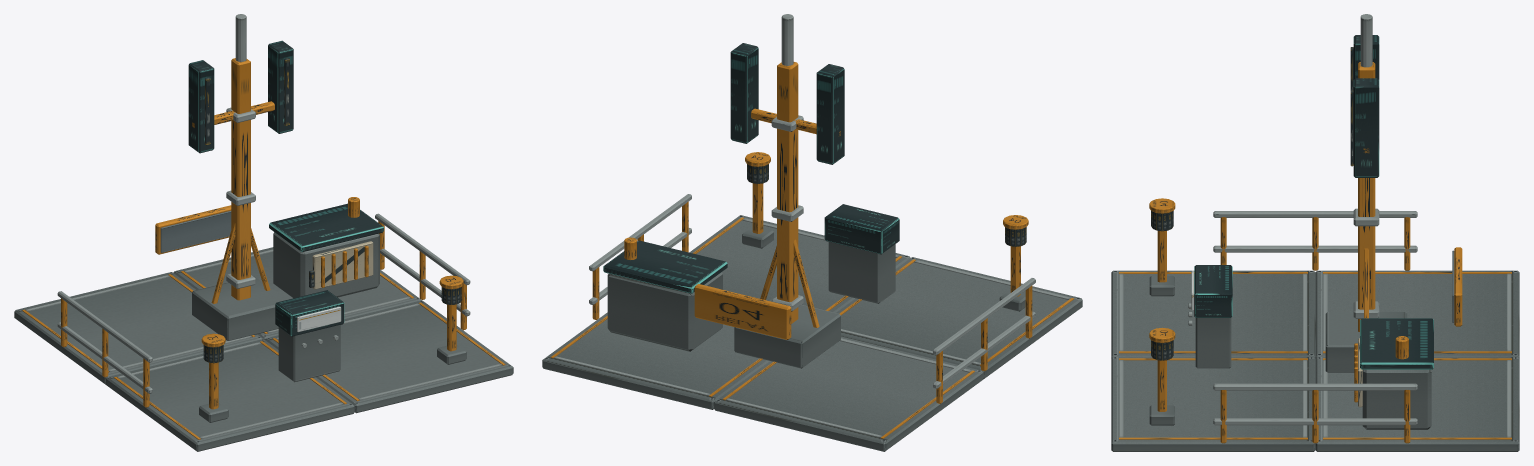
The model's file is RelayPlatform_LOD1.obj.
3 views of the same model, side by side, from view 1: azimuth 30°, elevation 25°; view 2: azimuth 150°, elevation 25°; view 3: azimuth 270°, elevation 25° (orthographic). The views are drawn at different scales.
Parts seen in each view (by area): view 1: 004_relay_mast.001, 000_floor_4m.017, 002_floor_4m.009, 001_floor_4m.009, 006_generator.001, 005_console.001, 003_floor_4m.005, 009_sign_relay.001, 007_railing_4m.001, 008_railing_4m.001, 010_beacon.001, 011_beacon.001; view 2: 001_floor_4m.009, 004_relay_mast.001, 000_floor_4m.017, 003_floor_4m.005, 006_generator.001, 002_floor_4m.009, 005_console.001, 009_sign_relay.001, 007_railing_4m.001, 008_railing_4m.001, 011_beacon.001, 010_beacon.001; view 3: 002_floor_4m.009, 000_floor_4m.017, 003_floor_4m.005, 001_floor_4m.009, 004_relay_mast.001, 006_generator.001, 008_railing_4m.001, 005_console.001, 007_railing_4m.001, 010_beacon.001, 011_beacon.001, 009_sign_relay.001.
Boxes of the visible parts, x1,y1,x2,y2 form: 004_relay_mast.001: (188, 14, 293, 340); 000_floor_4m.017: (106, 339, 354, 451); 002_floor_4m.009: (265, 300, 513, 413); 001_floor_4m.009: (14, 272, 262, 384); 006_generator.001: (269, 197, 383, 298); 005_console.001: (275, 290, 344, 382); 003_floor_4m.005: (173, 247, 421, 339); 009_sign_relay.001: (155, 205, 231, 254); 007_railing_4m.001: (57, 291, 152, 407); 008_railing_4m.001: (375, 213, 470, 330); 010_beacon.001: (199, 333, 228, 422); 011_beacon.001: (437, 275, 466, 364); 001_floor_4m.009: (714, 336, 983, 451); 004_relay_mast.001: (730, 14, 844, 368); 000_floor_4m.017: (836, 257, 1082, 379); 003_floor_4m.005: (542, 312, 769, 409); 006_generator.001: (603, 237, 727, 351); 002_floor_4m.009: (689, 215, 910, 312); 005_console.001: (824, 204, 899, 303); 009_sign_relay.001: (694, 284, 791, 339); 007_railing_4m.001: (933, 278, 1035, 403); 008_railing_4m.001: (589, 194, 691, 319); 011_beacon.001: (742, 152, 773, 248); 010_beacon.001: (999, 215, 1028, 311); 002_floor_4m.009: (1111, 357, 1315, 451); 000_floor_4m.017: (1111, 270, 1315, 358); 003_floor_4m.005: (1315, 357, 1519, 451); 001_floor_4m.009: (1315, 270, 1519, 358); 004_relay_mast.001: (1325, 14, 1407, 372); 006_generator.001: (1354, 318, 1433, 429); 008_railing_4m.001: (1213, 383, 1417, 443); 005_console.001: (1188, 265, 1232, 368); 007_railing_4m.001: (1213, 211, 1417, 270); 010_beacon.001: (1149, 198, 1175, 296); 011_beacon.001: (1149, 327, 1175, 425); 009_sign_relay.001: (1452, 247, 1462, 326).
Bounding box in the file's own units: 8.12 × 7.57 × 8.
1 material, 1 textured.
